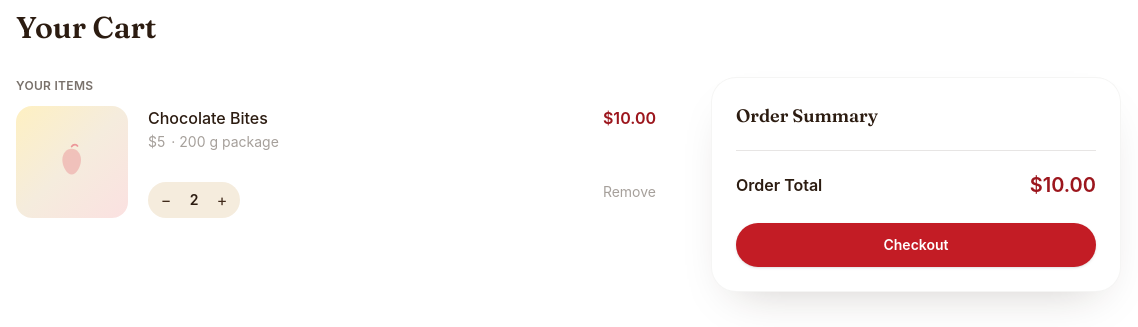
Test: CartPage › increasing a unit quantity updates that line and the total
The width and height of the screenshot is (1138, 327).
Click the button named "Increase".
click(222, 200)  # box [208, 186, 236, 214]
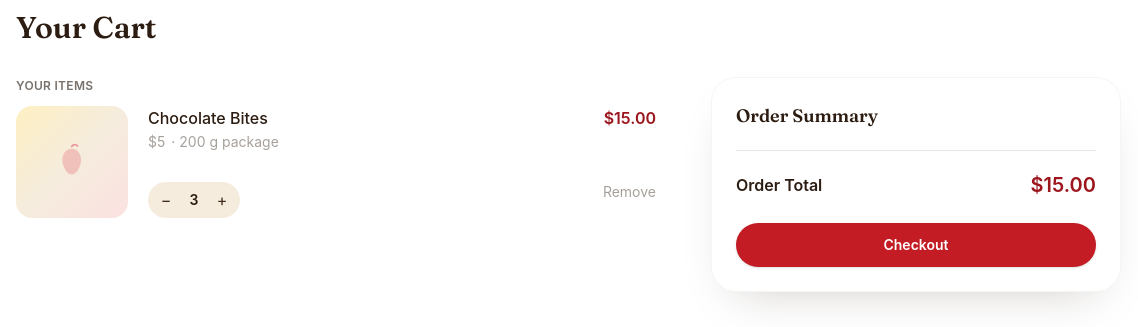
expect the text "3" is shown: met, box [190, 191, 198, 208]
expect the text "$15.00" in the row of "Chocolate Bites" is shown: met, box [604, 108, 656, 128]
